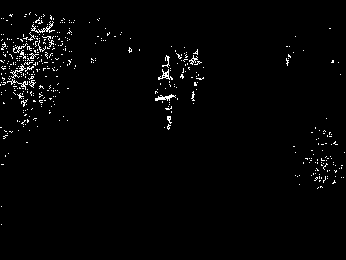person: (154, 65, 180, 133)
